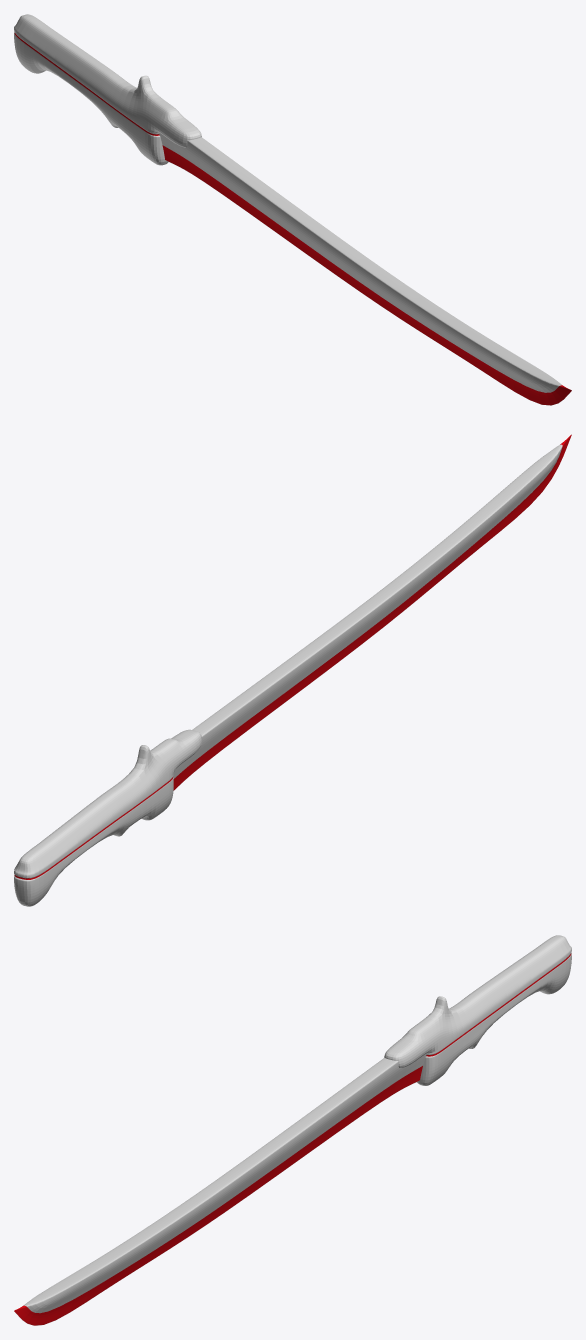
Rendered from Sword.fbx.
The picture shows the model from 3 angles, top to bottom: view 1: azimuth 30°, elevation 25°; view 2: azimuth 150°, elevation 25°; view 3: azimuth 330°, elevation 25°; orthographic projection.
Visible parts, largest first — view 1: Sword; view 2: Sword; view 3: Sword.
Part boxes in pixels (x1,y1,x2,y2): Sword: (14, 14, 571, 405); Sword: (14, 434, 571, 906); Sword: (14, 935, 571, 1325).
Bounding box in the file's own units: 11.02 × 33.42 × 433.
